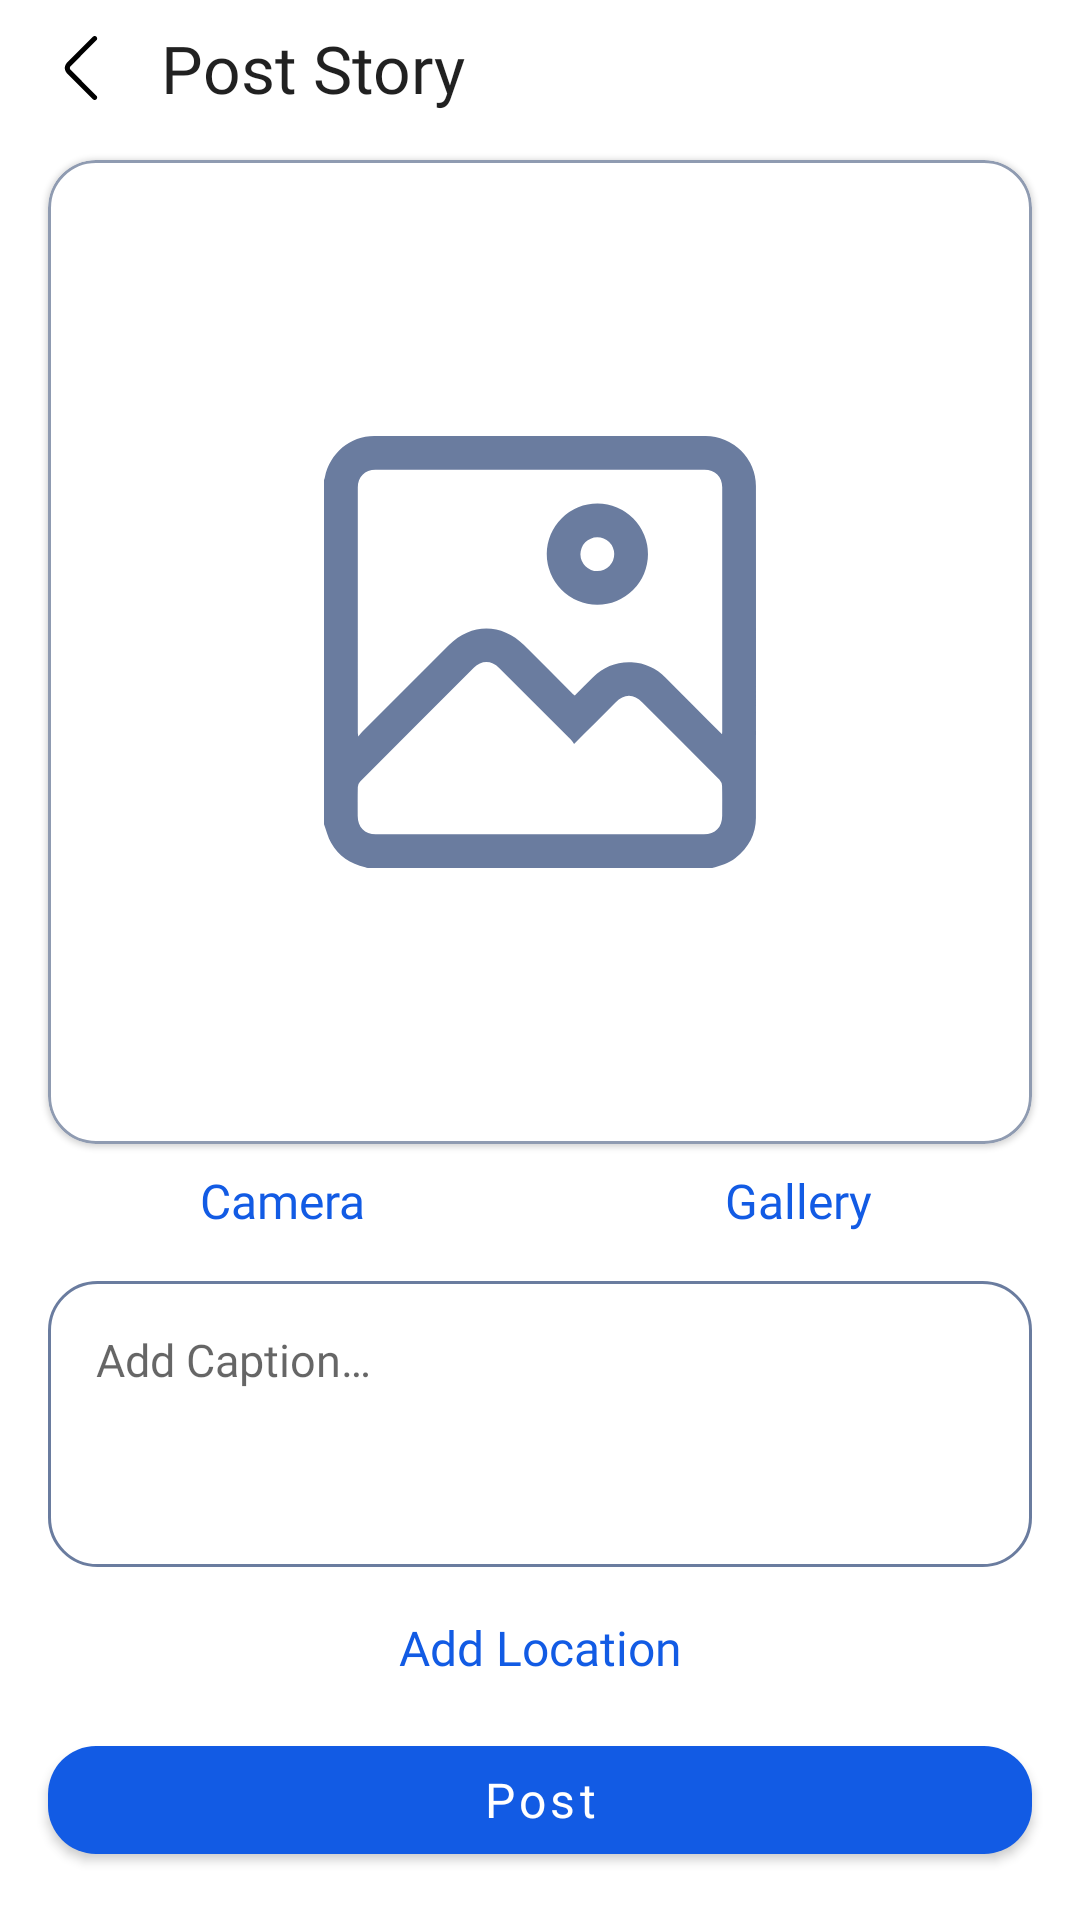

Icons on this 1080*1920 Android screen, each with its box as (x1,y1,x2,y2):
back: (64,36,98,100)
